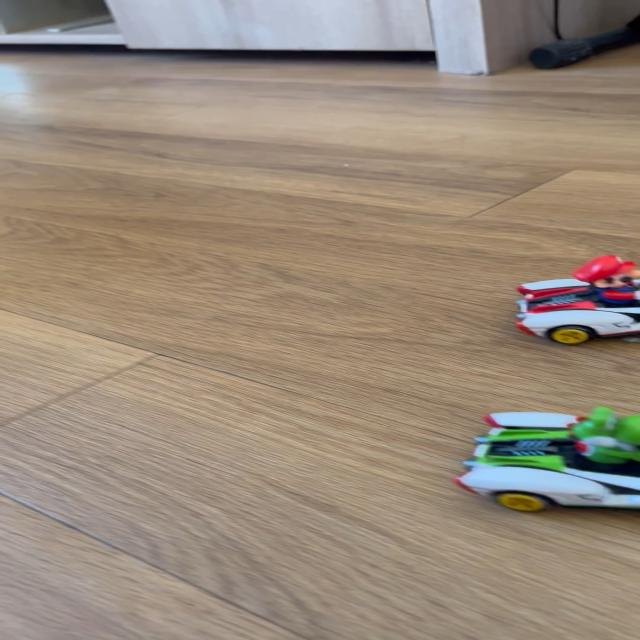mario: (503, 251, 637, 346)
yoshi: (441, 396, 639, 527)
